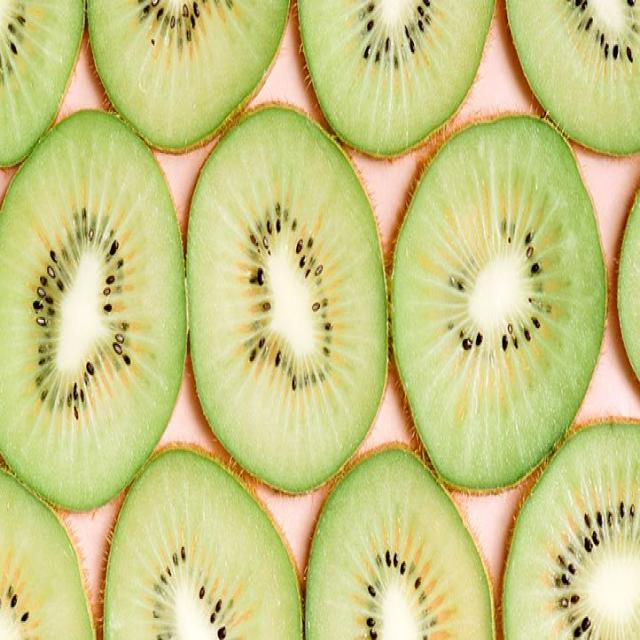Chilli Pepper: (389, 107, 609, 506), (188, 100, 392, 490), (0, 112, 186, 505), (85, 439, 303, 640), (298, 432, 494, 640)
